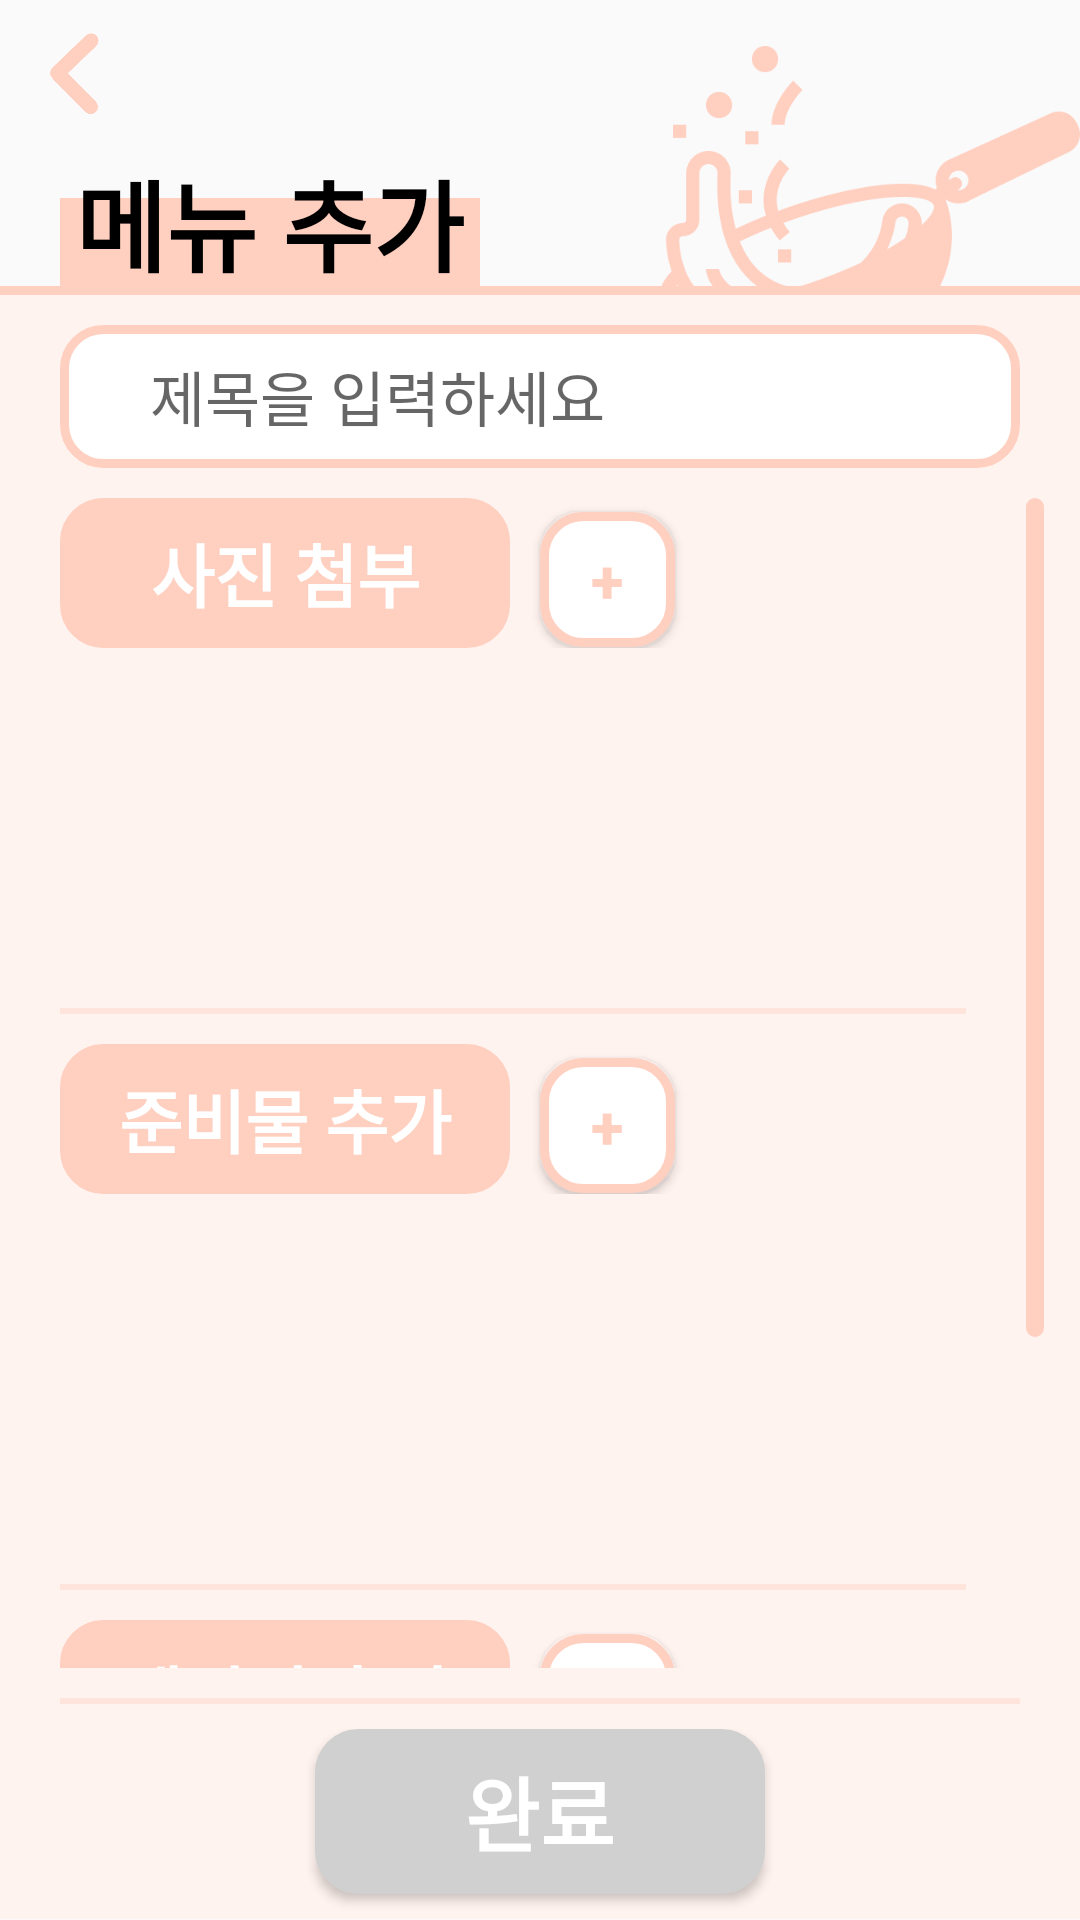

Locate icon controls on the screen. Image size 1080px x 1920px, boxes as box=[x1, y1, x2, y2].
back: box=[50, 33, 98, 114]
